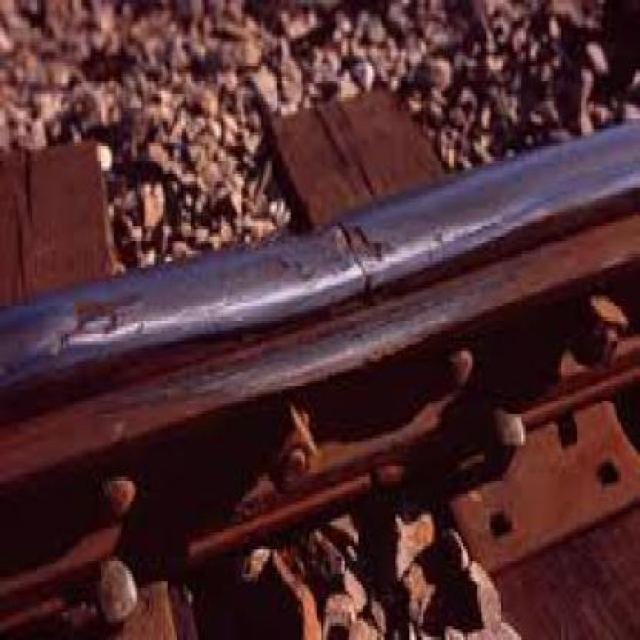defective: (1, 188, 448, 488)
